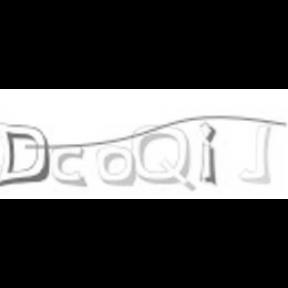D: (0, 122, 50, 188)
J: (239, 122, 275, 188)
Q: (130, 122, 196, 192)
c: (51, 142, 85, 188)
i: (196, 120, 220, 186)
o: (96, 141, 136, 187)
